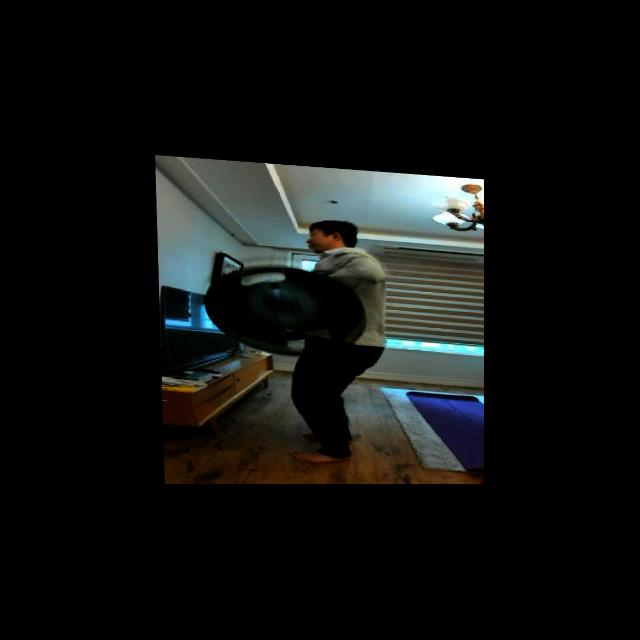barbell: (201, 257, 367, 362)
